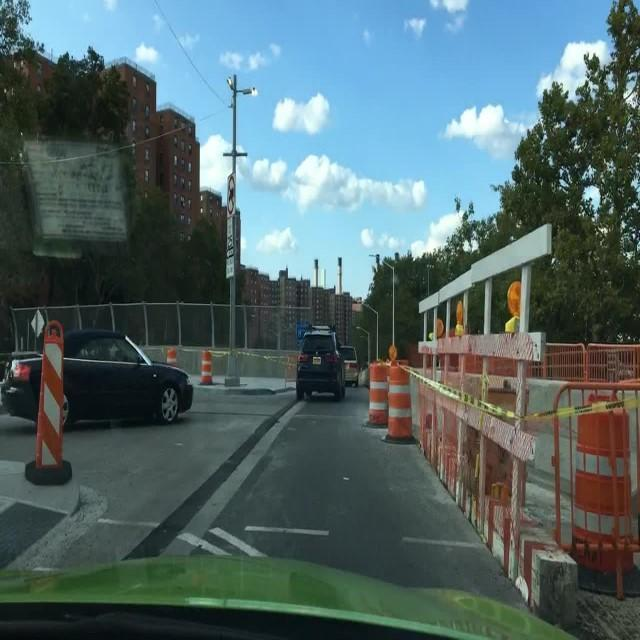normal: (409, 229, 640, 637), (0, 331, 191, 432), (338, 345, 361, 386)
